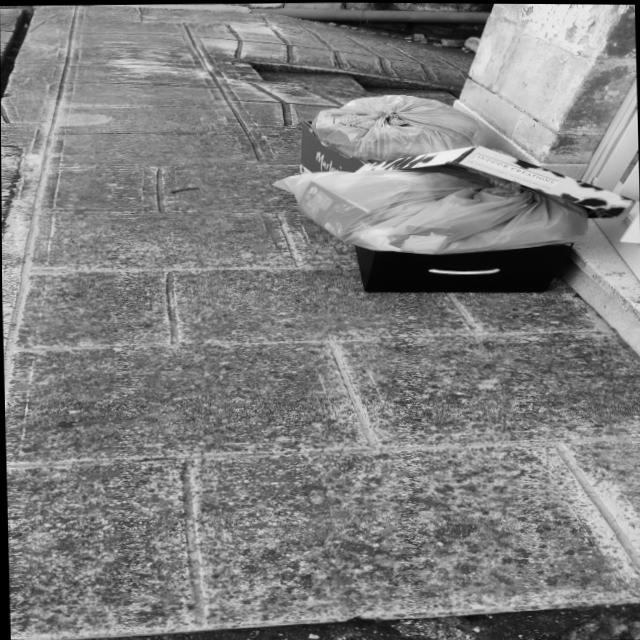Organic Waste -White Bags-: (270, 168, 583, 252), (311, 95, 488, 160)
Others Waste: (298, 121, 633, 217), (354, 242, 571, 291)
